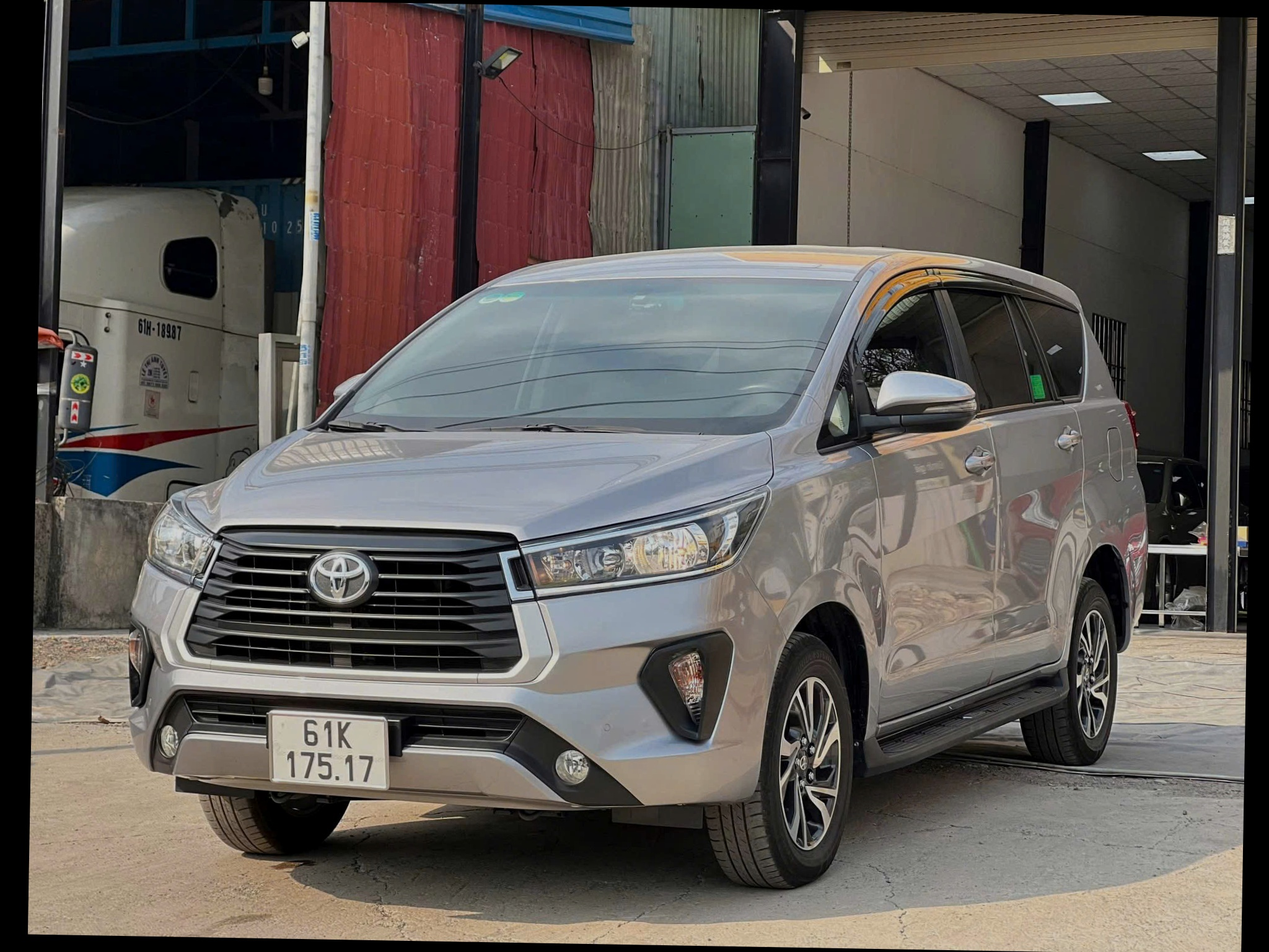Bien-so: (242, 717, 385, 804)
